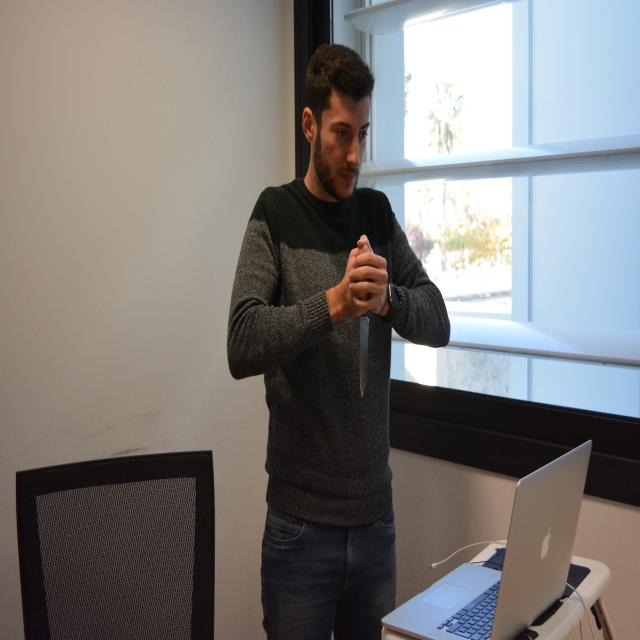knife: (355, 310, 374, 403)
